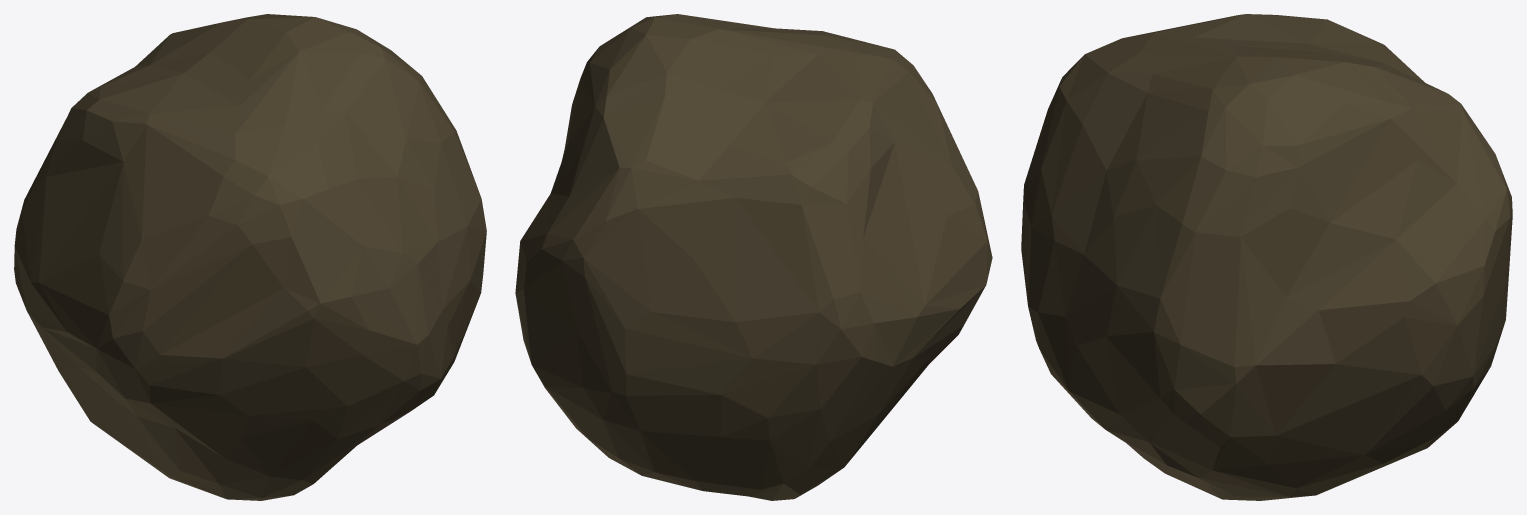
Rendered from Rock_Variant_2.fbx.
3 renders of one model, left to right at view 1: azimuth 30°, elevation 25°; view 2: azimuth 150°, elevation 25°; view 3: azimuth 270°, elevation 25°, orthographic. The views are drawn at different scales.
Visible parts, largest first — view 1: RockVariant2; view 2: RockVariant2; view 3: RockVariant2.
Boxes of the visible parts, <box> form: RockVariant2: <box>14,14,486,500</box>; RockVariant2: <box>515,14,992,500</box>; RockVariant2: <box>1021,14,1512,500</box>.
Bounding box in the file's own units: 10.31 × 10.72 × 10.43.
